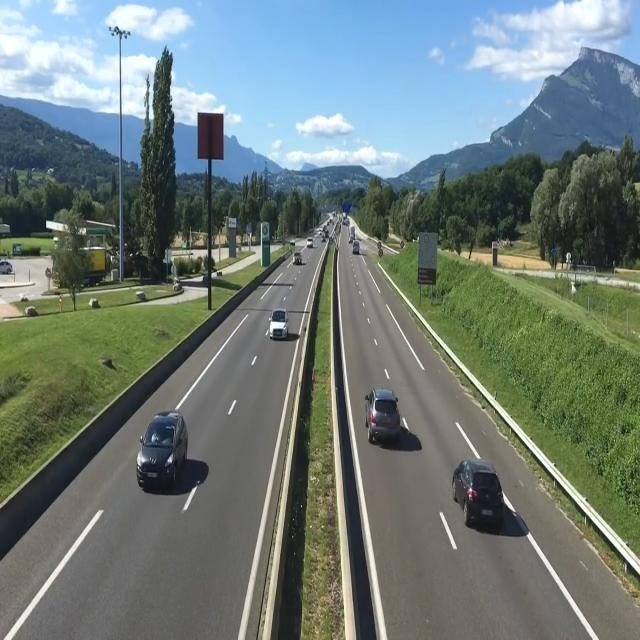Car: (134, 410, 189, 488), (452, 459, 506, 528), (363, 387, 402, 445), (268, 309, 289, 340), (0, 259, 14, 275), (292, 251, 301, 264)
